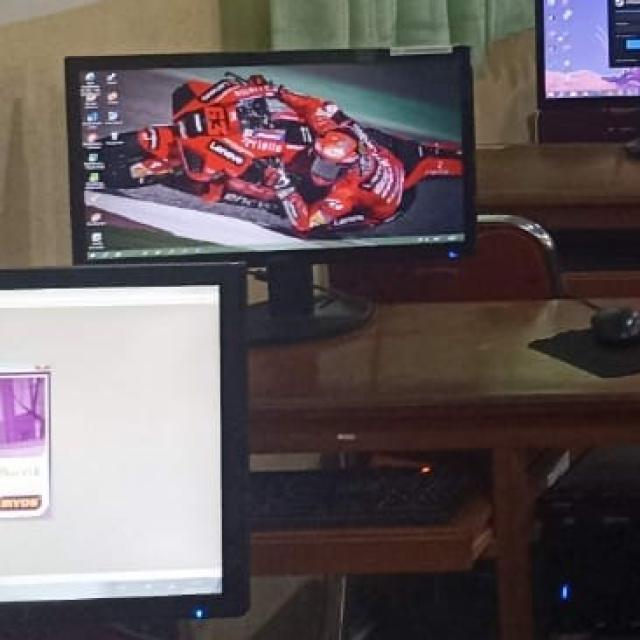onscreen: (0, 264, 247, 628), (68, 49, 475, 263), (544, 0, 640, 98)
